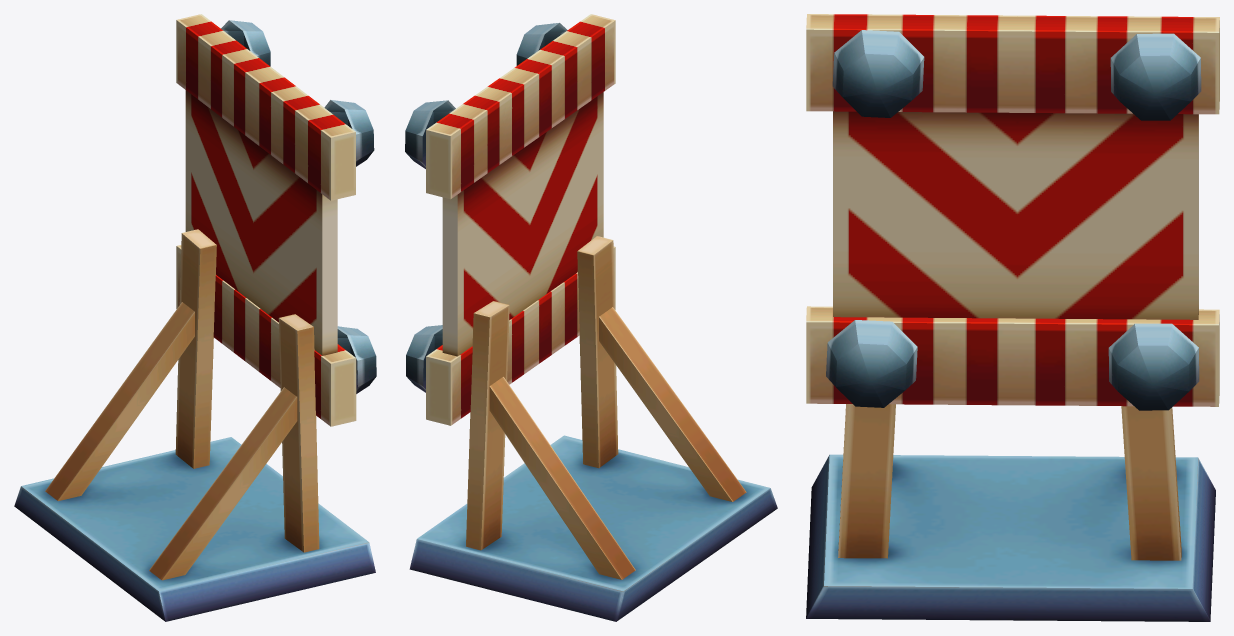
File: high_obstacle.glb
3 renders of one model, left to right at view 1: azimuth 30°, elevation 25°; view 2: azimuth 150°, elevation 25°; view 3: azimuth 270°, elevation 25°, orthographic. The views are drawn at different scales.
Parts seen in each view (by area): view 1: Object_10; view 2: Object_10; view 3: Object_10.
Part boxes in pixels (x1=…): Object_10: x1=14, y1=14, x2=376, y2=621; Object_10: x1=405, y1=14, x2=777, y2=621; Object_10: x1=806, y1=14, x2=1219, y2=621.
Size of the model in its own units: 3.22 by 5.88 by 3.78.
Materials: 1 (1 with a texture image).
